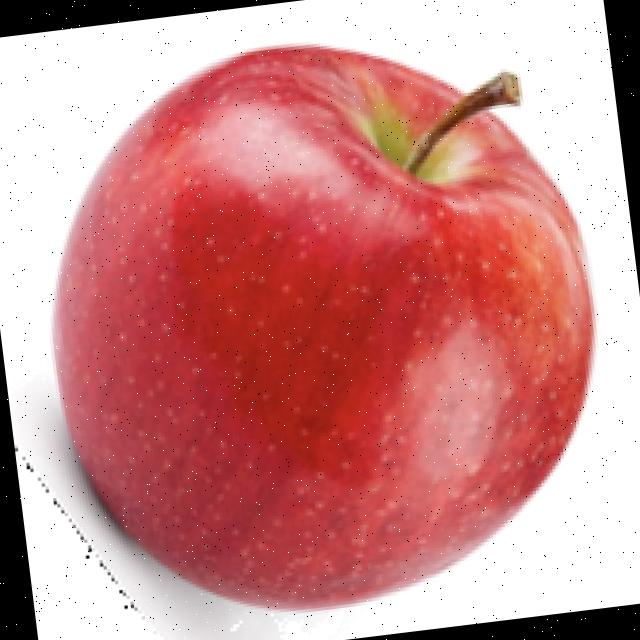apple: (10, 37, 602, 640)
